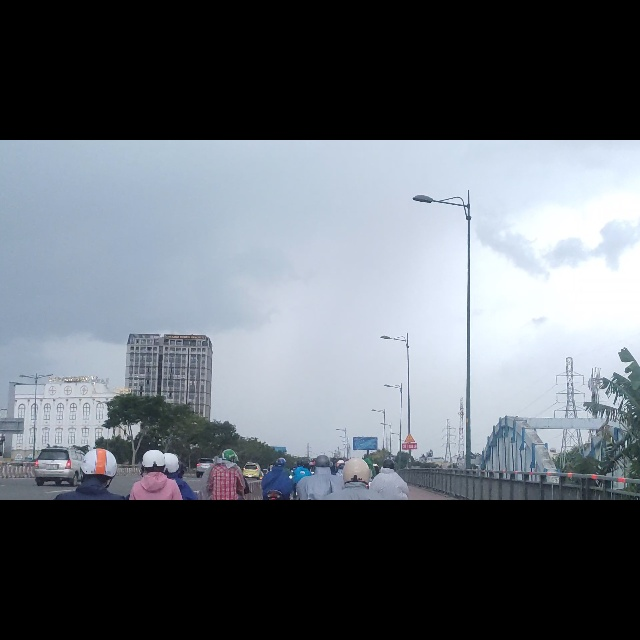bien_nguy_hiem: (404, 520, 416, 539)
